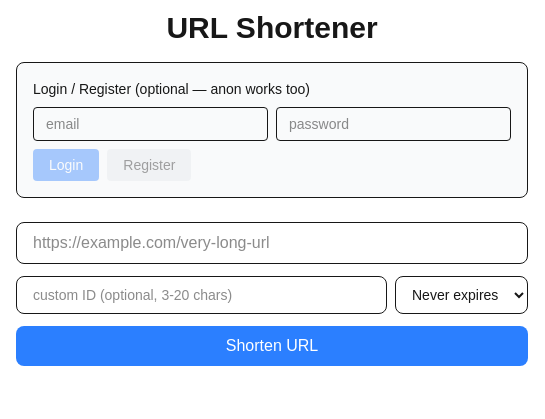
Home Page › shows generic error when API returns non-JSON
Type "https://example.com" into the field with placeholder "https://example.com/very-long-url".
click(272, 243); type("https://example.com")  # box [16, 222, 528, 264]
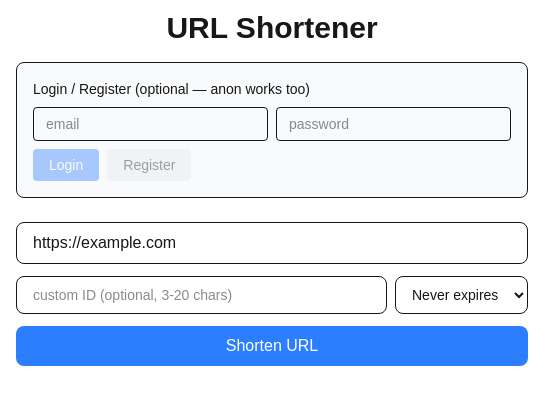
Submit the form with placeholder "https://example.com/very-long-url", box [16, 222, 528, 366]
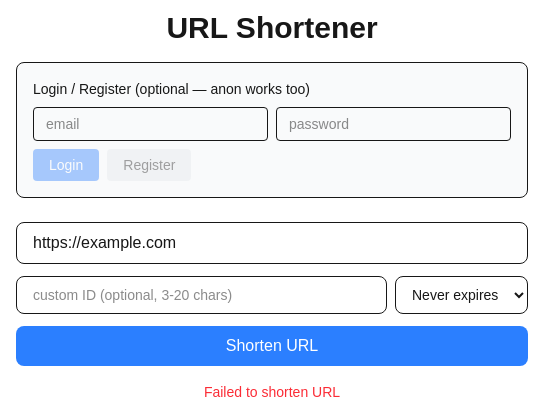
Expected: the text "Failed to shorten URL" is shown, [204, 382, 340, 402]
